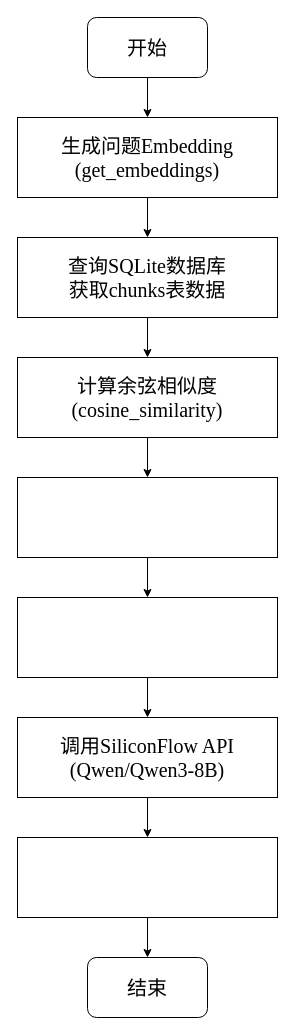
The diagram is 295 pixels wide and 1035 high, and some of its shapes have lost their labels. Here are the shapes that lost their labels. From the top down, the centre of each, then its label:
At [147,517]: "排序 & 去重 & 过滤 (阈值 0.5 , 取 Top-5 )".
At [147,637]: "发送思考过程事件 (chat-thinking)".
At [147,877]: "流式返回响应 (chat-stream)".
